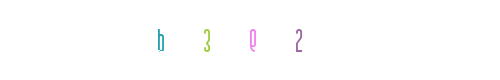2: (233, 0, 313, 80)
3: (167, 0, 247, 80)
B: (120, 0, 200, 80)
E: (210, 0, 290, 80)
